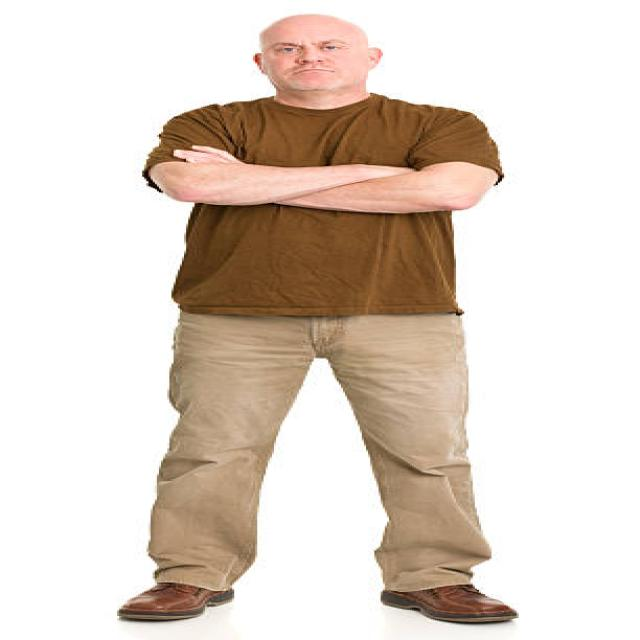Edited images: (104, 1, 546, 640)
